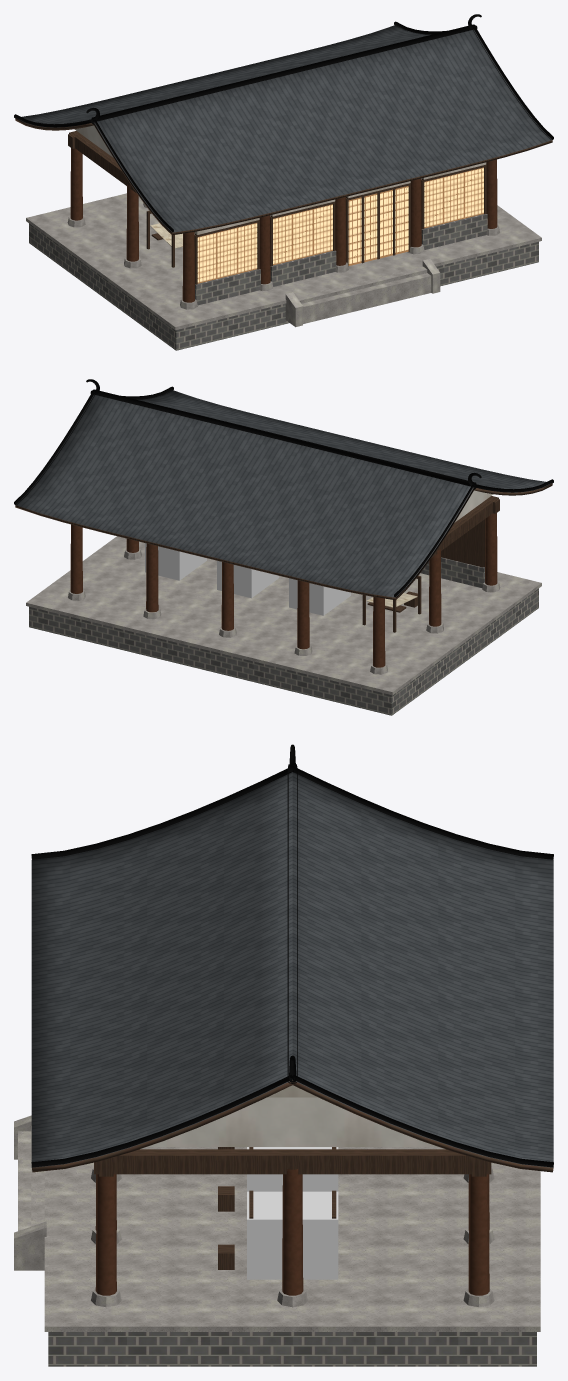
The model's file is silk_workshop.glb.
The picture shows the model from 3 angles, top to bottom: view 1: azimuth 30°, elevation 25°; view 2: azimuth 150°, elevation 25°; view 3: azimuth 270°, elevation 25°; orthographic projection. The views are drawn at different scales.
Parts seen in each view (by area): view 1: SilkRoof, SilkPodiumCap, SilkLattice, SilkPodiumBase, SilkColumns, SilkDado, SilkRoofRidge, SilkStairsfront, SilkFrames, SilkBeams, SilkCheeksfront, SilkColumnBases (+1 smaller); view 2: SilkRoof, SilkPodiumCap, SilkPodiumBase, SilkColumns, SilkRoofRidge, SilkFrames, Loom-convcolonly.001, Loom-convcolonly.003, SilkColumnBases, Loom-convcolonly.002, SilkBeams, SilkDado (+1 smaller); view 3: SilkRoof, SilkPodiumCap, SilkPodiumBase, SilkBeams, SilkGables, SilkRoofRidge, SilkColumns, Loom-convcolonly.003, SilkStairsfront, SilkCheeksfront, SilkColumnBases, Loom-convcolonly.002 (+1 smaller).
Boxes of the visible parts, bbox=[...] form: SilkRoof: bbox=[15, 25, 552, 235]; SilkPodiumCap: bbox=[26, 193, 541, 330]; SilkLattice: bbox=[197, 167, 483, 283]; SilkPodiumBase: bbox=[29, 223, 538, 350]; SilkColumns: bbox=[70, 148, 497, 302]; SilkDado: bbox=[195, 214, 487, 305]; SilkRoofRidge: bbox=[14, 14, 553, 232]; SilkStairsfront: bbox=[297, 266, 431, 323]; SilkFrames: bbox=[194, 164, 486, 284]; SilkBeams: bbox=[68, 131, 136, 192]; SilkCheeksfront: bbox=[285, 259, 440, 327]; SilkColumnBases: bbox=[67, 203, 499, 309]; SilkRoof: bbox=[15, 390, 552, 600]; SilkPodiumCap: bbox=[26, 536, 541, 695]; SilkPodiumBase: bbox=[29, 588, 538, 715]; SilkColumns: bbox=[70, 513, 497, 667]; SilkRoofRidge: bbox=[14, 379, 553, 597]; SilkFrames: bbox=[441, 519, 485, 567]; Loom-convcolonly.001: bbox=[289, 578, 350, 615]; Loom-convcolonly.003: bbox=[145, 543, 206, 580]; SilkColumnBases: bbox=[68, 548, 500, 674]; Loom-convcolonly.002: bbox=[217, 560, 278, 598]; SilkBeams: bbox=[431, 496, 499, 557]; SilkDado: bbox=[420, 557, 484, 588]; SilkRoof: bbox=[31, 772, 553, 1172]; SilkPodiumCap: bbox=[44, 1147, 540, 1331]; SilkPodiumBase: bbox=[48, 1332, 536, 1366]; SilkBeams: bbox=[94, 1149, 491, 1176]; SilkGables: bbox=[147, 1085, 438, 1146]; SilkRoofRidge: bbox=[31, 744, 553, 1167]; SilkColumns: bbox=[95, 1169, 489, 1295]; Loom-convcolonly.003: bbox=[247, 1191, 338, 1279]; SilkStairsfront: bbox=[18, 1126, 45, 1230]; SilkCheeksfront: bbox=[14, 1115, 46, 1270]; SilkColumnBases: bbox=[91, 1168, 494, 1307]; Loom-convcolonly.002: bbox=[247, 1147, 338, 1191].
Size of what is drawn, in the model's own units: 18.31 by 8.47 by 13.04.
Materials: 10 (10 with a texture image).
